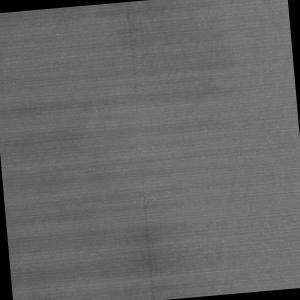Stain: (125, 187, 173, 300), (115, 1, 153, 107)
